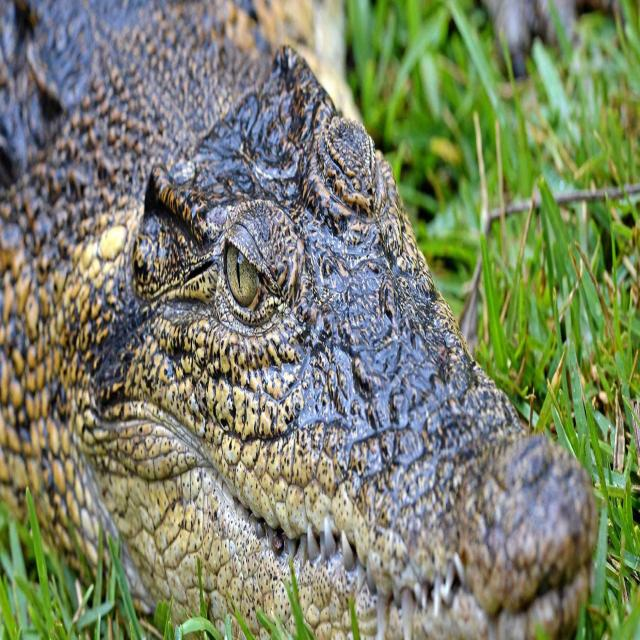crocodile: (0, 0, 601, 637)
